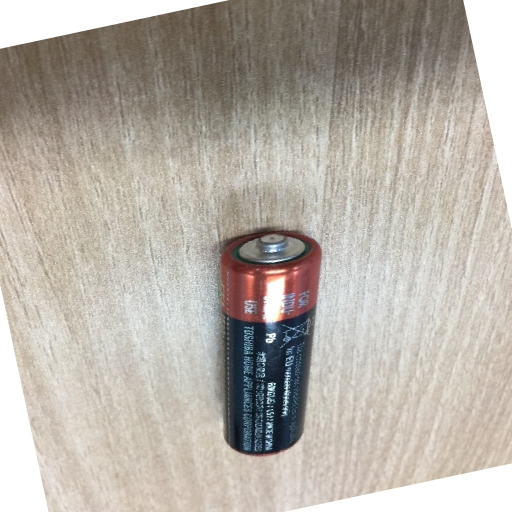Battery_0: (203, 213, 333, 461)
